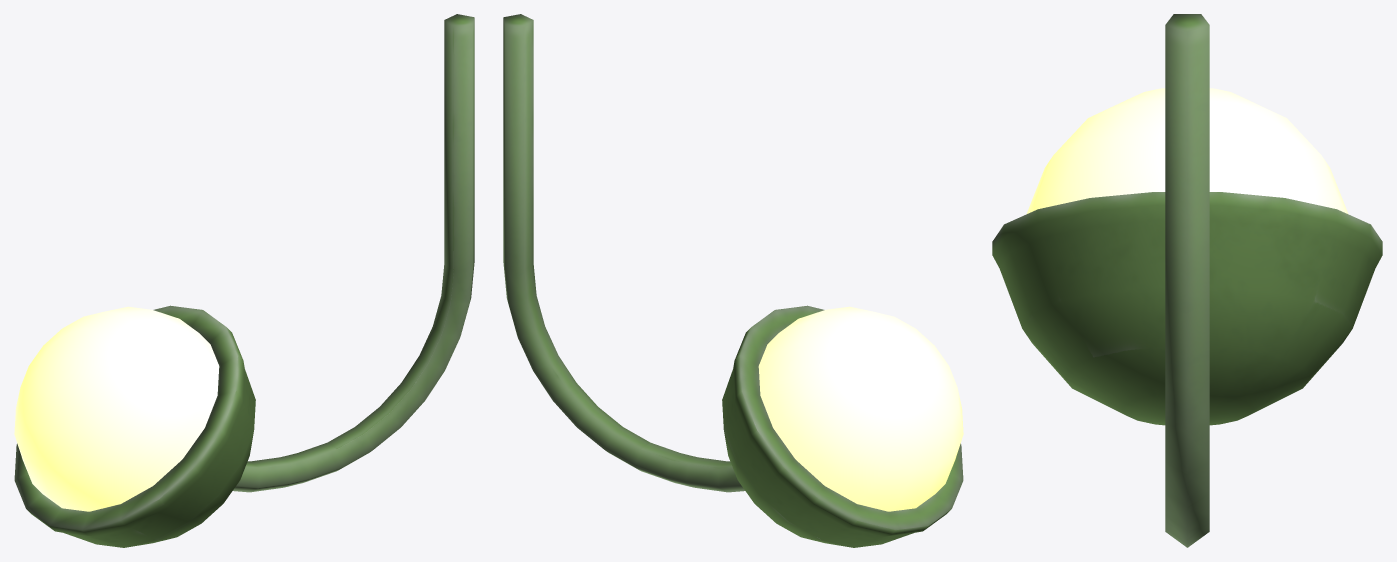
File: anime-lamp-01.glb
3 renders of one model, left to right at view 1: azimuth 30°, elevation 25°; view 2: azimuth 150°, elevation 25°; view 3: azimuth 270°, elevation 25°, orthographic. The views are drawn at different scales.
Visible parts, largest first — view 1: anime-lamp-01; view 2: anime-lamp-01; view 3: anime-lamp-01.
Boxes of the visible parts, box(x1,y1,x2,y2) form: anime-lamp-01: box(14, 14, 474, 547); anime-lamp-01: box(503, 14, 963, 547); anime-lamp-01: box(992, 14, 1382, 547).
Bounding box in the file's own units: 0.7483 × 0.6979 × 0.3966.
2 materials, 1 textured.
